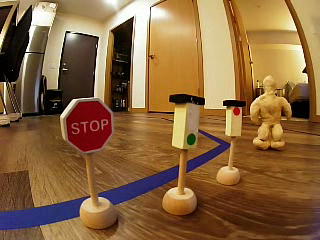Red traffic light: (218, 93, 247, 140)
green traffic light: (164, 89, 208, 151)
person: (250, 73, 294, 154)
stop: (54, 93, 123, 156)
